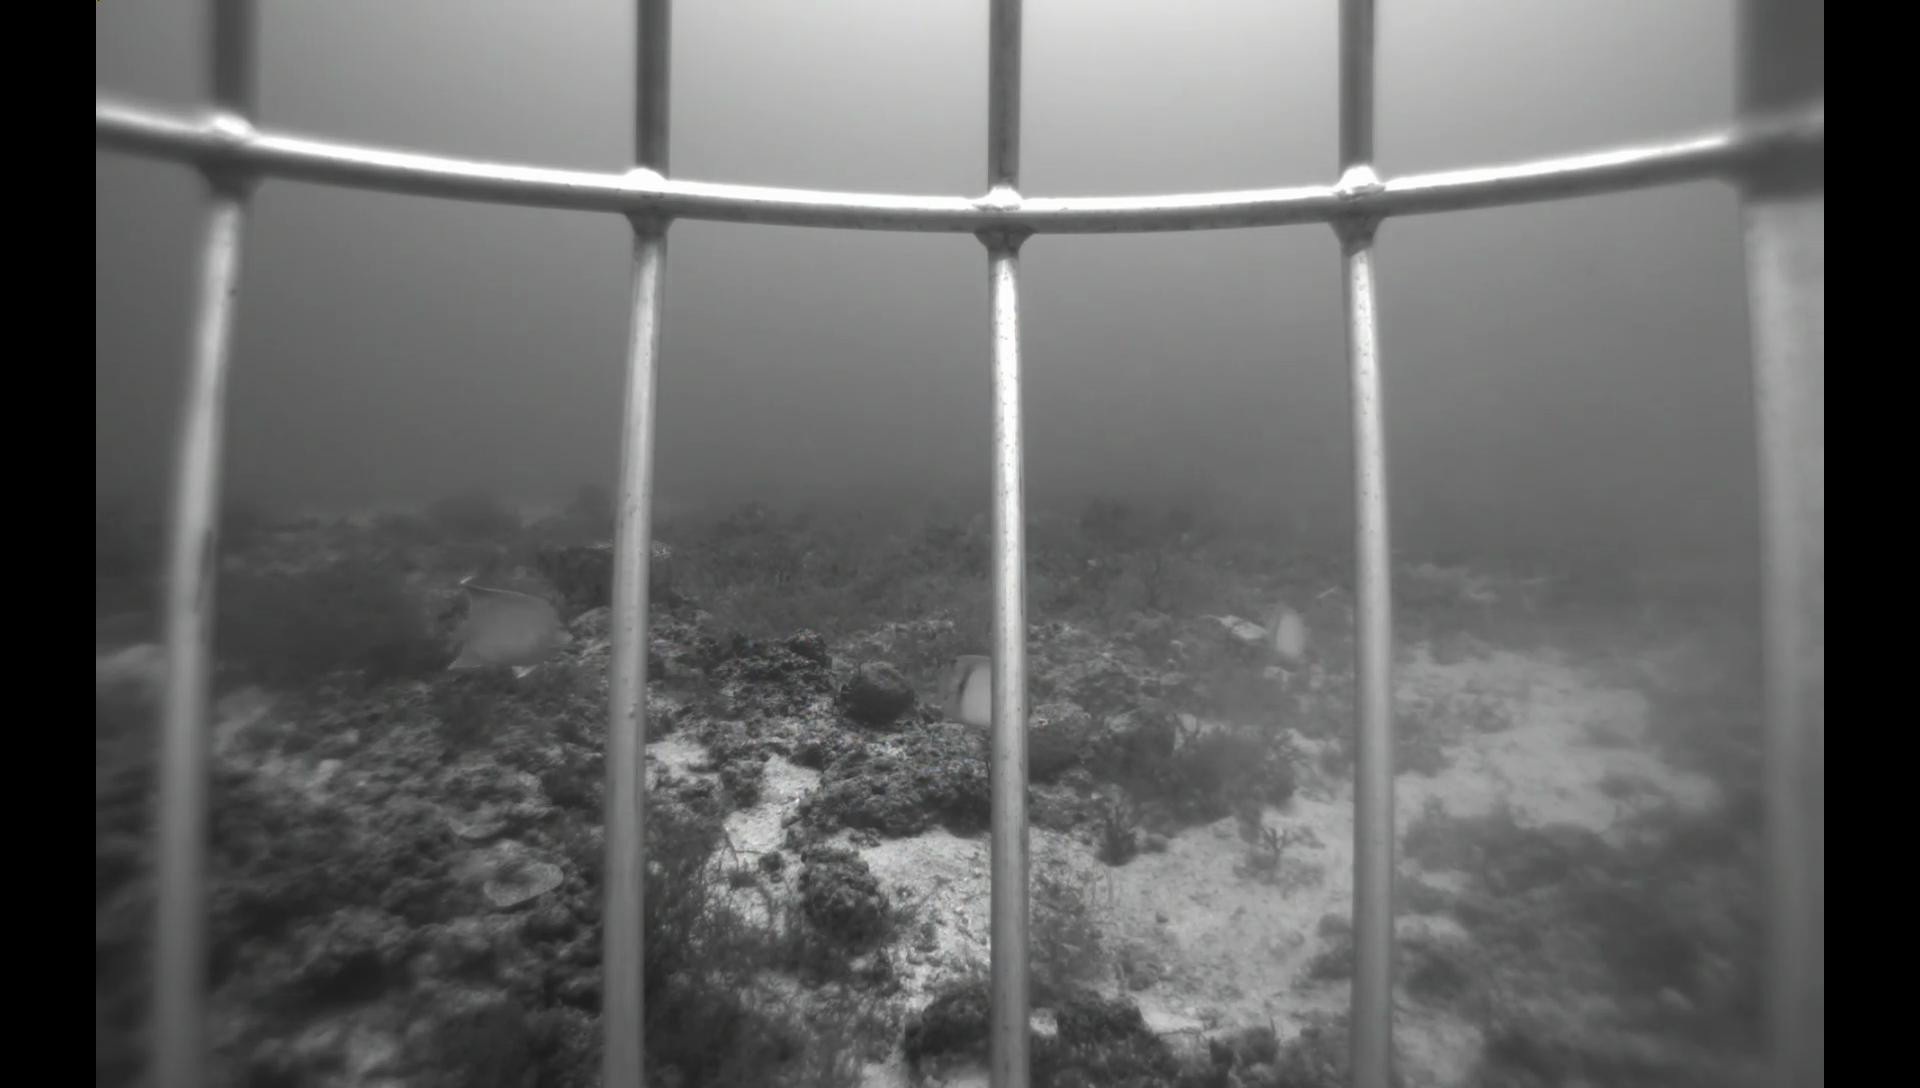CHAETODONOCELLATUS-170260307: (934, 646, 1050, 735), (1261, 592, 1316, 669)
HOLACANTHUSBERMUDENSIS-170290102: (429, 560, 592, 696)
MYCTEROPERCAPHENAX-170022105: (944, 510, 993, 557)
